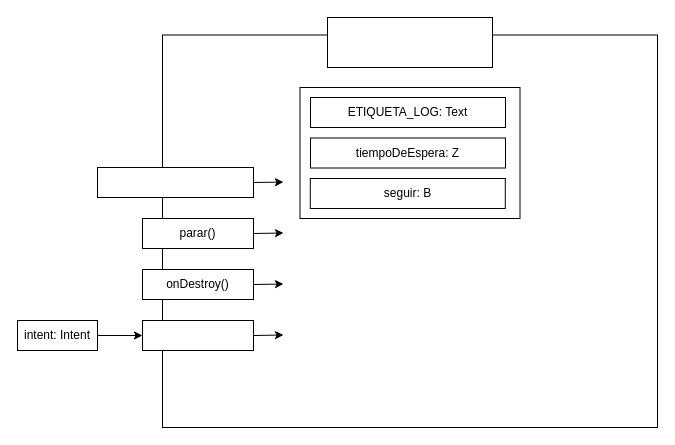
Some shapes in this 675 by 445 pixel diagram are drawn without their labels. Here are the shapes that lost their labels. From the top down, the box of each, then its label:
(326, 16, 492, 68): ServicioEscucharBeacons
(96, 166, 254, 198): ServicioEscucharBeacons()
(142, 320, 254, 350): onHandleIntent()
